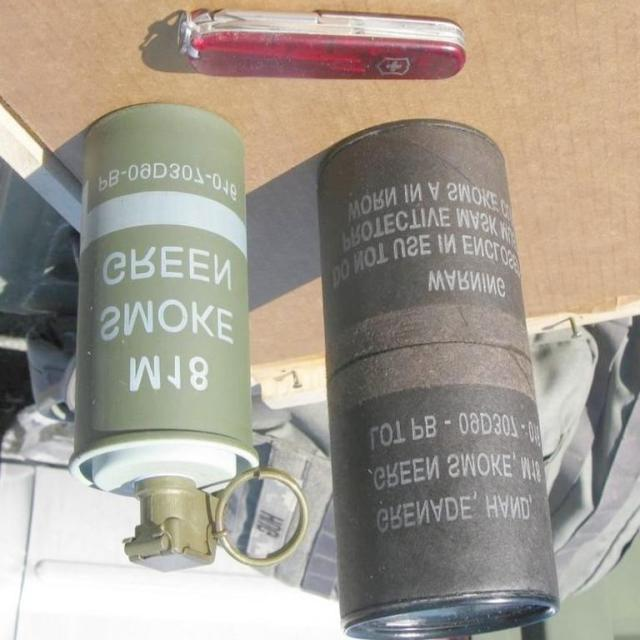grenade: (319, 119, 562, 640), (70, 103, 310, 575)
